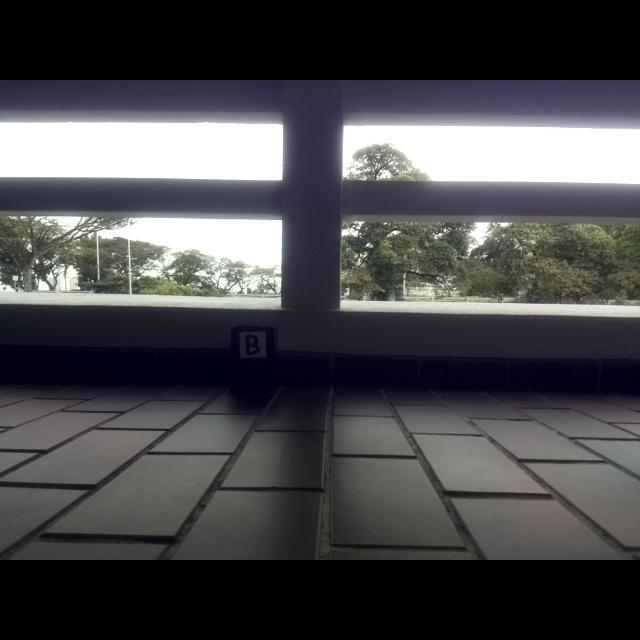B: (244, 334, 261, 356)
